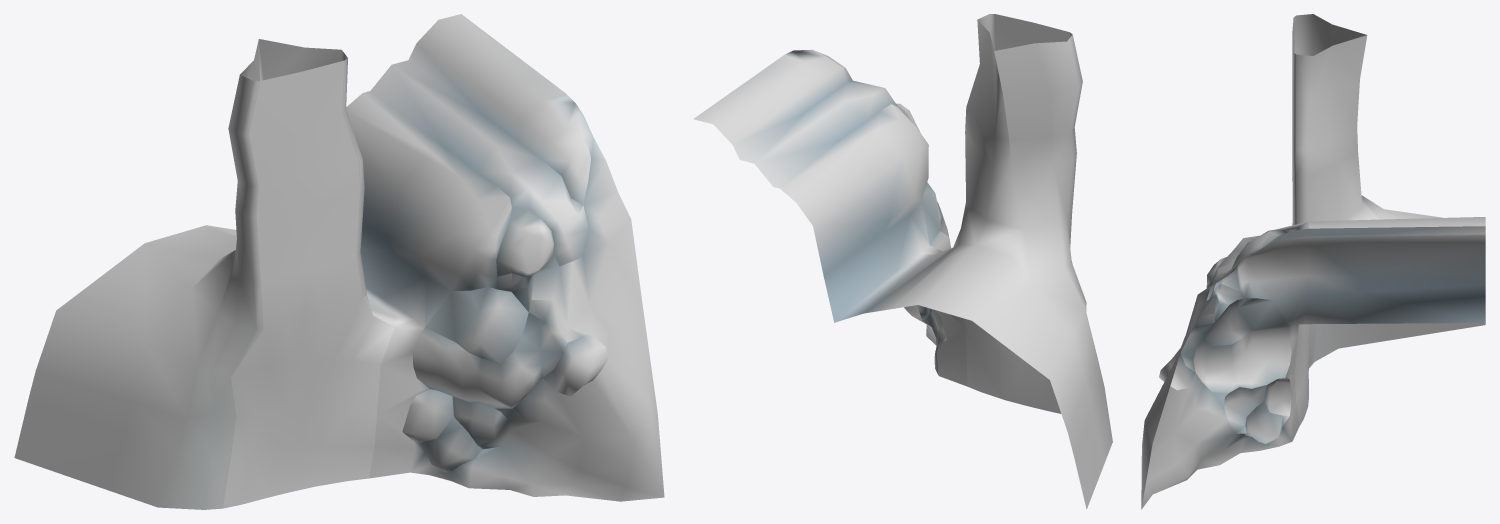
The model's file is Snow_BridgeTransitionA_lod1.glb.
The picture shows the model from 3 angles, left to right: view 1: azimuth 30°, elevation 25°; view 2: azimuth 150°, elevation 25°; view 3: azimuth 270°, elevation 25°; orthographic projection. The views are drawn at different scales.
Visible parts, largest first — view 1: MeshNode_0, MeshNode_1; view 2: MeshNode_0, MeshNode_1; view 3: MeshNode_0, MeshNode_1.
Boxes of the visible parts, x1,y1,x2,y2 form: MeshNode_0: (14,14,664,509); MeshNode_1: (223,60,394,508); MeshNode_0: (693,14,1112,509); MeshNode_1: (964,14,1070,413); MeshNode_0: (1141,14,1485,509); MeshNode_1: (1292,18,1308,425).
Bounding box in the file's own units: 105 × 96 × 82.68.
